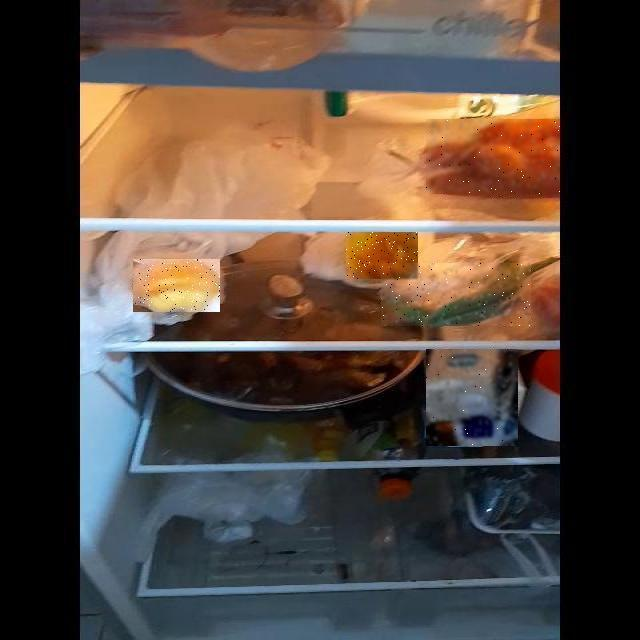carrot: (146, 97, 640, 291)
milk: (167, 223, 640, 640)
